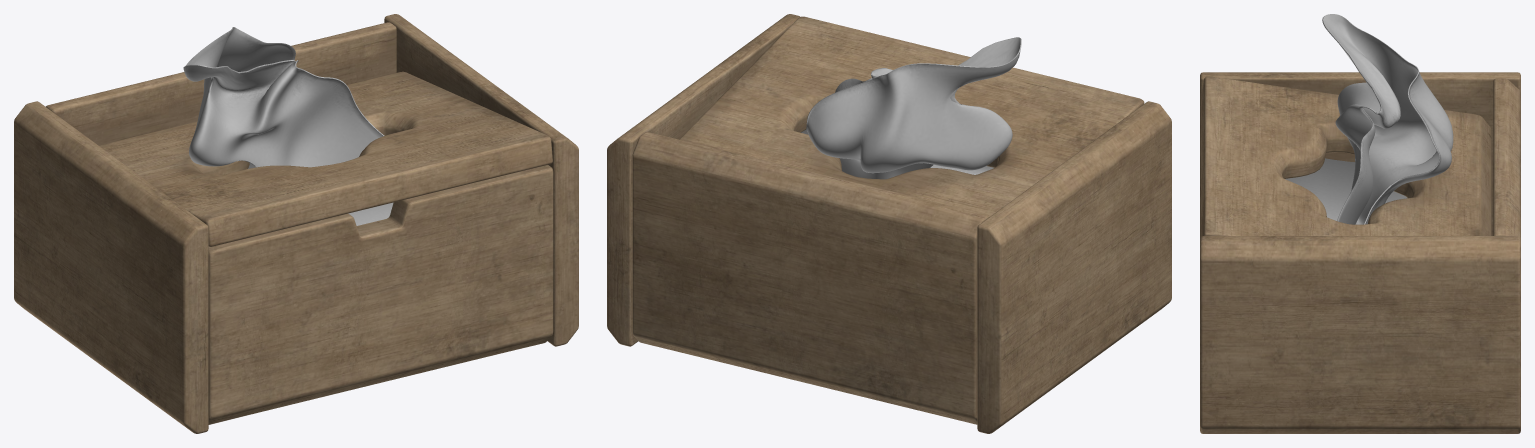
File: napkin box.fbx
The picture shows the model from 3 angles, left to right: view 1: azimuth 30°, elevation 25°; view 2: azimuth 150°, elevation 25°; view 3: azimuth 270°, elevation 25°; orthographic projection. The views are drawn at different scales.
Parts seen in each view (by area): view 1: napkin_boxBody, napkins; view 2: napkin_boxBody, napkins; view 3: napkin_boxBody, napkins.
Part boxes in pixels (left/top/right/bottom): napkin_boxBody: left=14, top=14, right=578, bottom=433; napkins: left=183, top=27, right=393, bottom=225; napkin_boxBody: left=607, top=14, right=1171, bottom=433; napkins: left=801, top=37, right=1021, bottom=179; napkin_boxBody: left=1200, top=72, right=1520, bottom=433; napkins: left=1285, top=14, right=1453, bottom=224.
Size of the model in its own units: 20 by 14.64 by 15.
